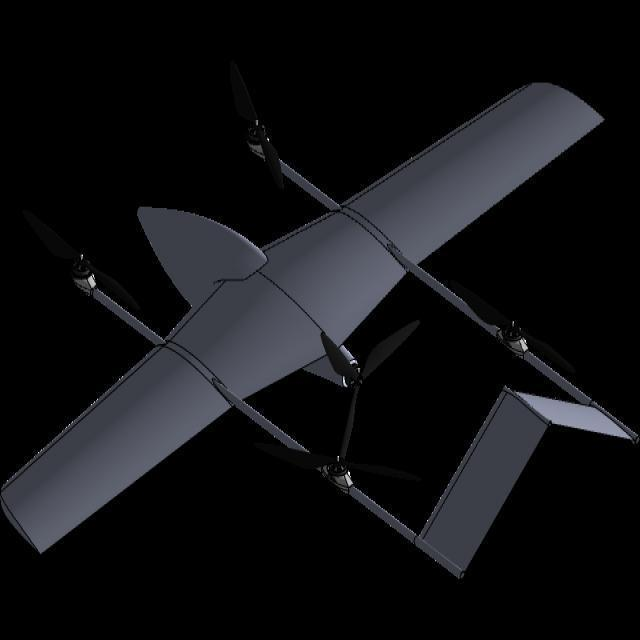iha: (1, 68, 639, 581)
